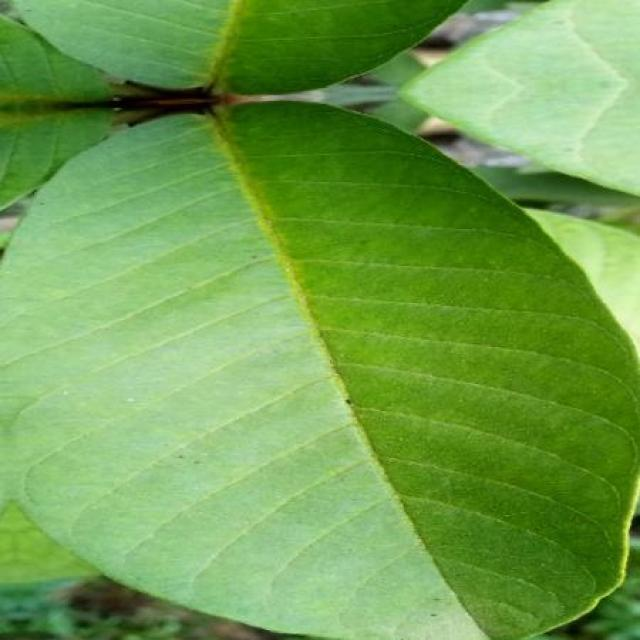Disease Free: (0, 0, 640, 640), (414, 1, 640, 192)
